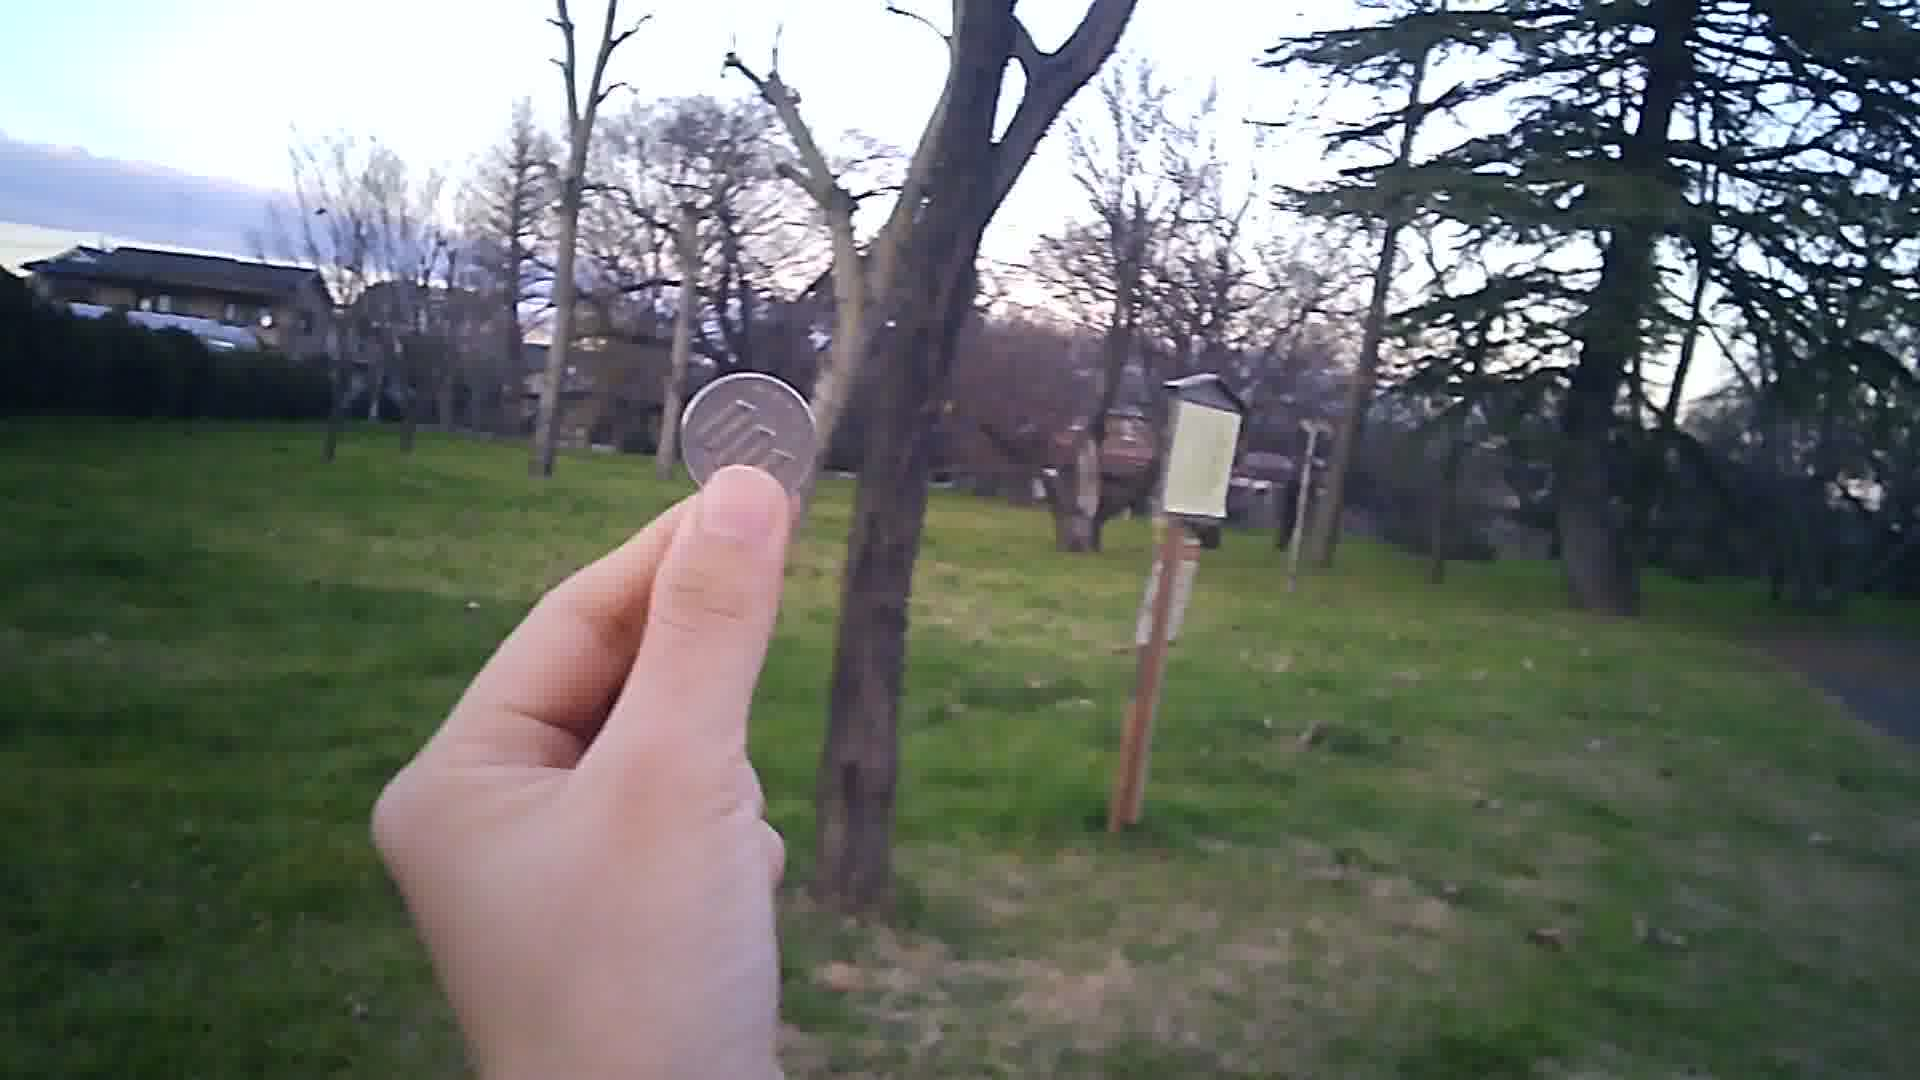100 Yen: (669, 365, 820, 495)
